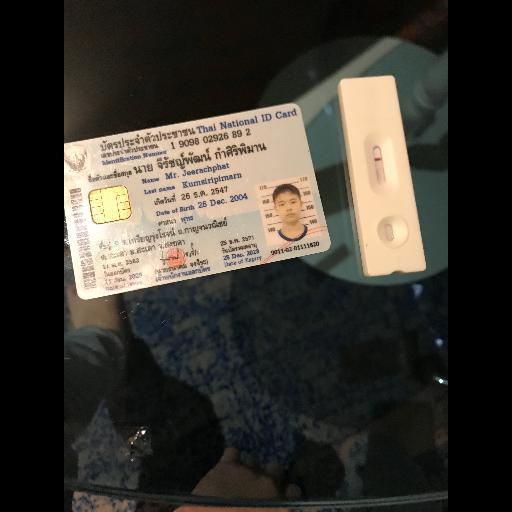Neg: (339, 74, 428, 275)
